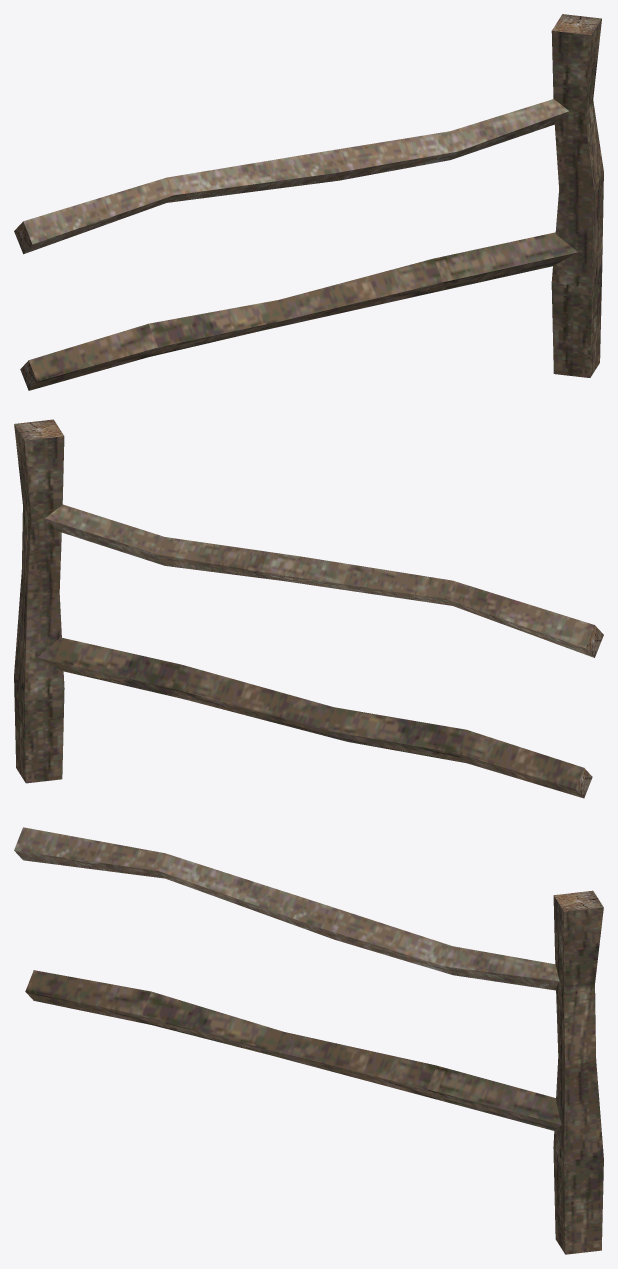
Rendered from Urban_WoodenFenceOpen_Model.fbx.
The picture shows the model from 3 angles, top to bottom: view 1: azimuth 30°, elevation 25°; view 2: azimuth 150°, elevation 25°; view 3: azimuth 330°, elevation 25°; orthographic projection.
Visible parts, largest first — view 1: Urban_WoodenFenceOpen_Mesh; view 2: Urban_WoodenFenceOpen_Mesh; view 3: Urban_WoodenFenceOpen_Mesh.
Part boxes in pixels (x1,y1,x2,y2): Urban_WoodenFenceOpen_Mesh: [14, 14, 603, 390]; Urban_WoodenFenceOpen_Mesh: [14, 419, 603, 798]; Urban_WoodenFenceOpen_Mesh: [14, 827, 603, 1254].
Size of the model in its own units: 2.12 by 1.2 by 0.1891.
